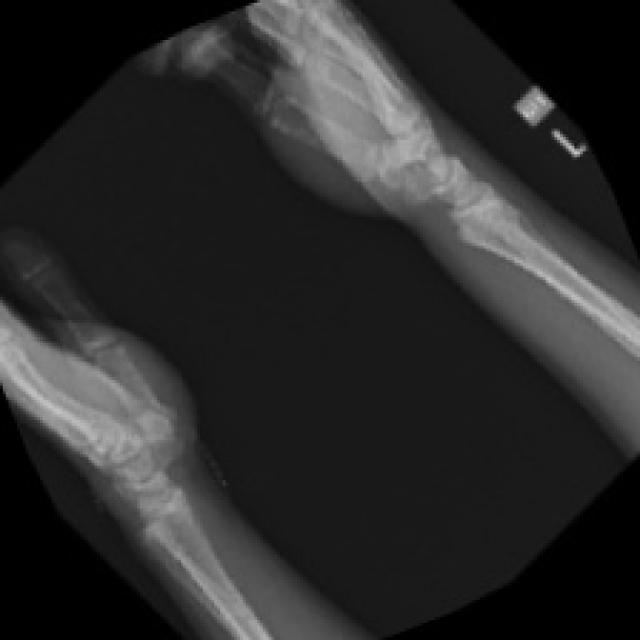fracture: (412, 152, 524, 251)
